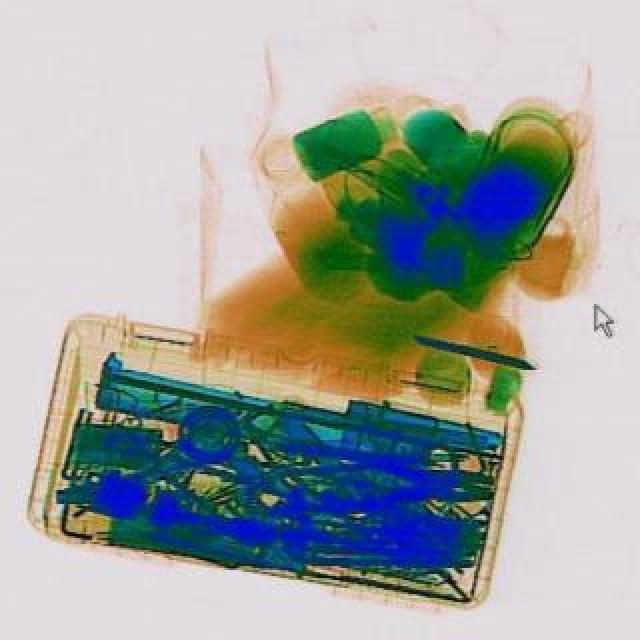wrench: (266, 440, 494, 520)
